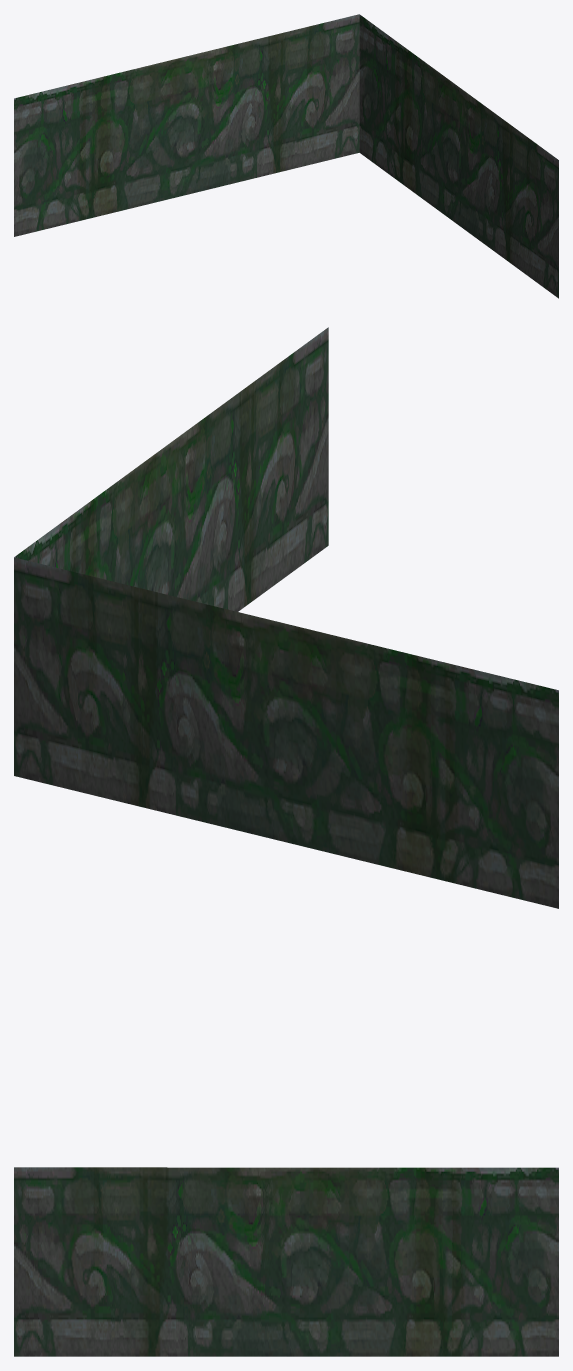
The model's file is stemple_quarter_concave_02.fbx.
The picture shows the model from 3 angles, top to bottom: view 1: azimuth 30°, elevation 25°; view 2: azimuth 150°, elevation 25°; view 3: azimuth 270°, elevation 25°; orthographic projection. The views are drawn at different scales.
Parts seen in each view (by area): view 1: obj0.212; view 2: obj0.212; view 3: obj0.212.
Boxes of the visible parts, x1,y1,x2,y2 form: obj0.212: (14, 14, 558, 298); obj0.212: (14, 327, 558, 908); obj0.212: (14, 1167, 558, 1356).
Bounding box in the file's own units: 3.59 × 1.38 × 3.59.
